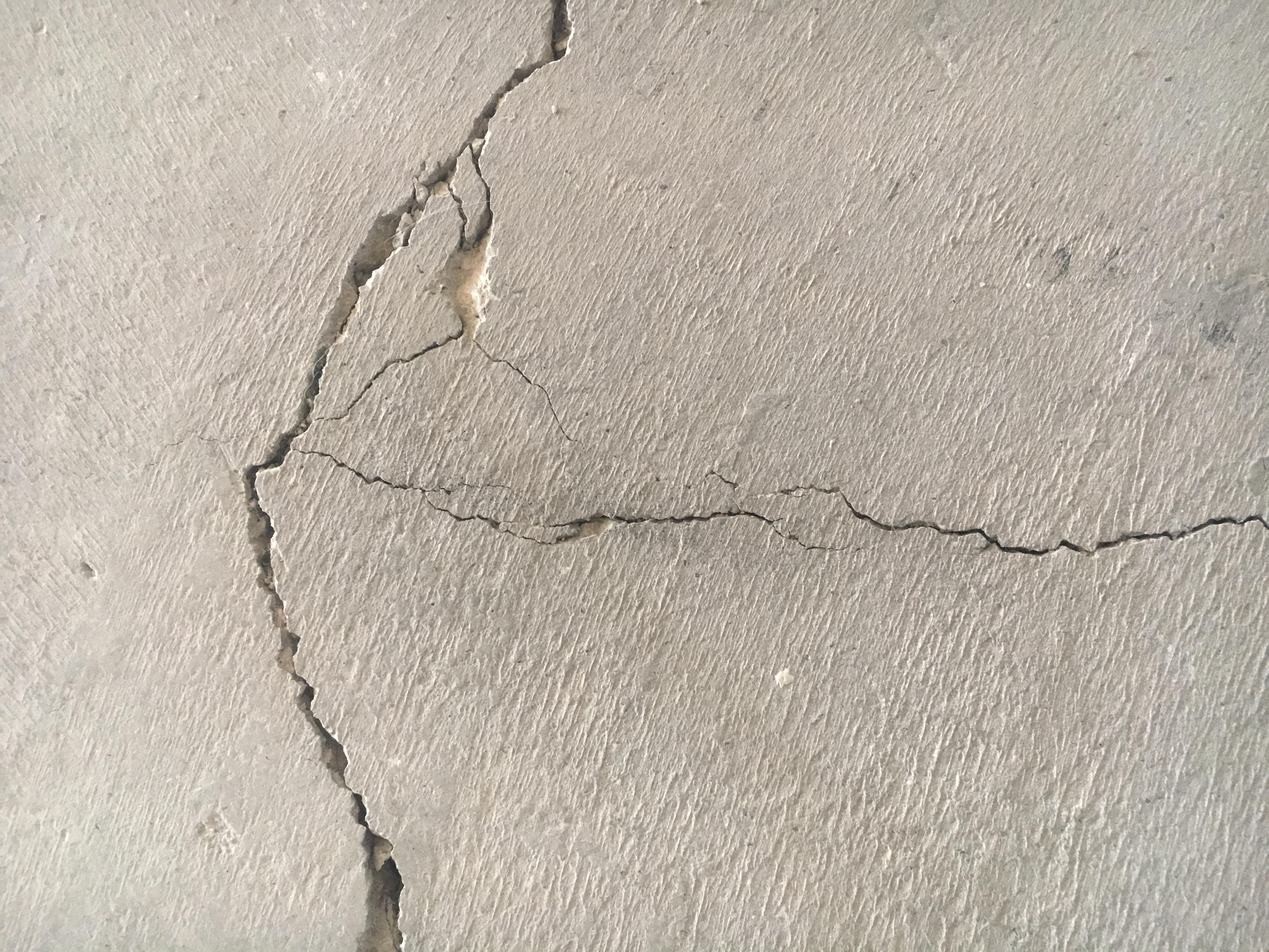Structural-Crack: (227, 2, 1266, 946)
